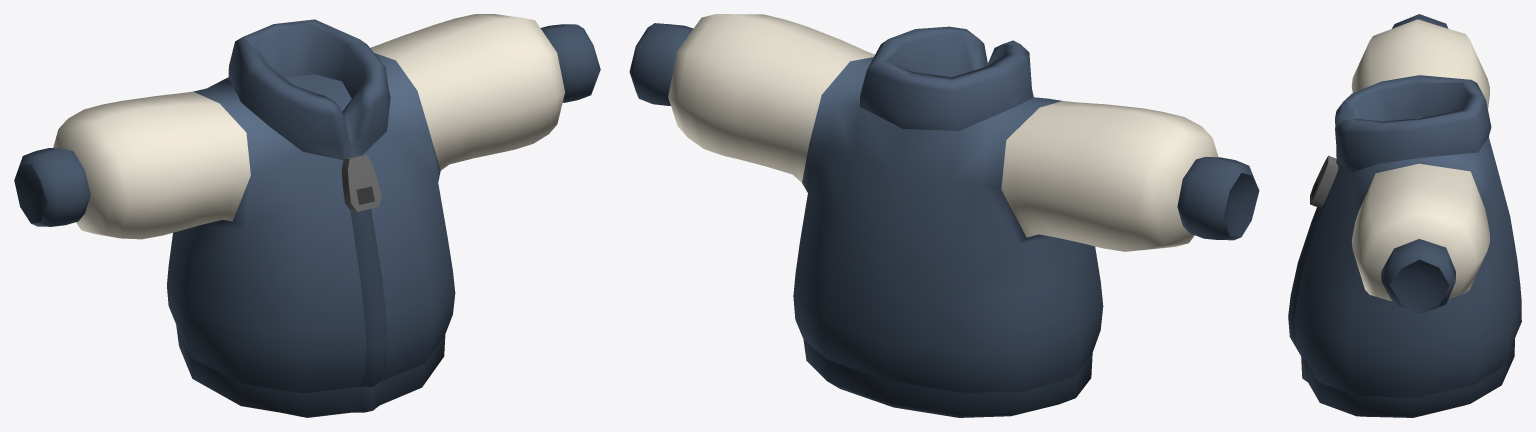
Rendered from Top_29.fbx.
3 views of the same model, side by side, from view 1: azimuth 30°, elevation 25°; view 2: azimuth 150°, elevation 25°; view 3: azimuth 270°, elevation 25° (orthographic). The views are drawn at different scales.
Parts seen in each view (by area): view 1: Top_29; view 2: Top_29; view 3: Top_29.
Part boxes in pixels (x1,y1,x2,y2): Top_29: (14,14,600,417); Top_29: (629,14,1259,417); Top_29: (1288,14,1521,417).
Size of the model in its own units: 95.72 by 53.32 by 38.89.
